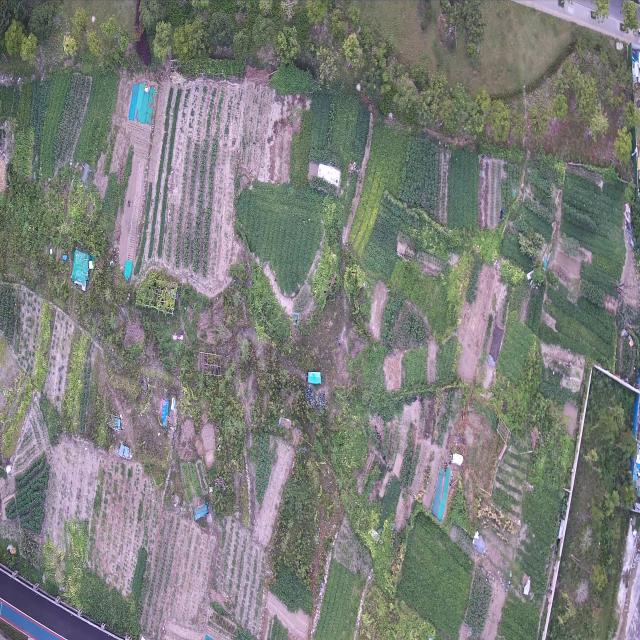UAV: (75, 160, 95, 189)
